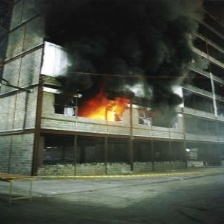fire: (87, 102, 123, 124)
smoke: (58, 1, 208, 104)
